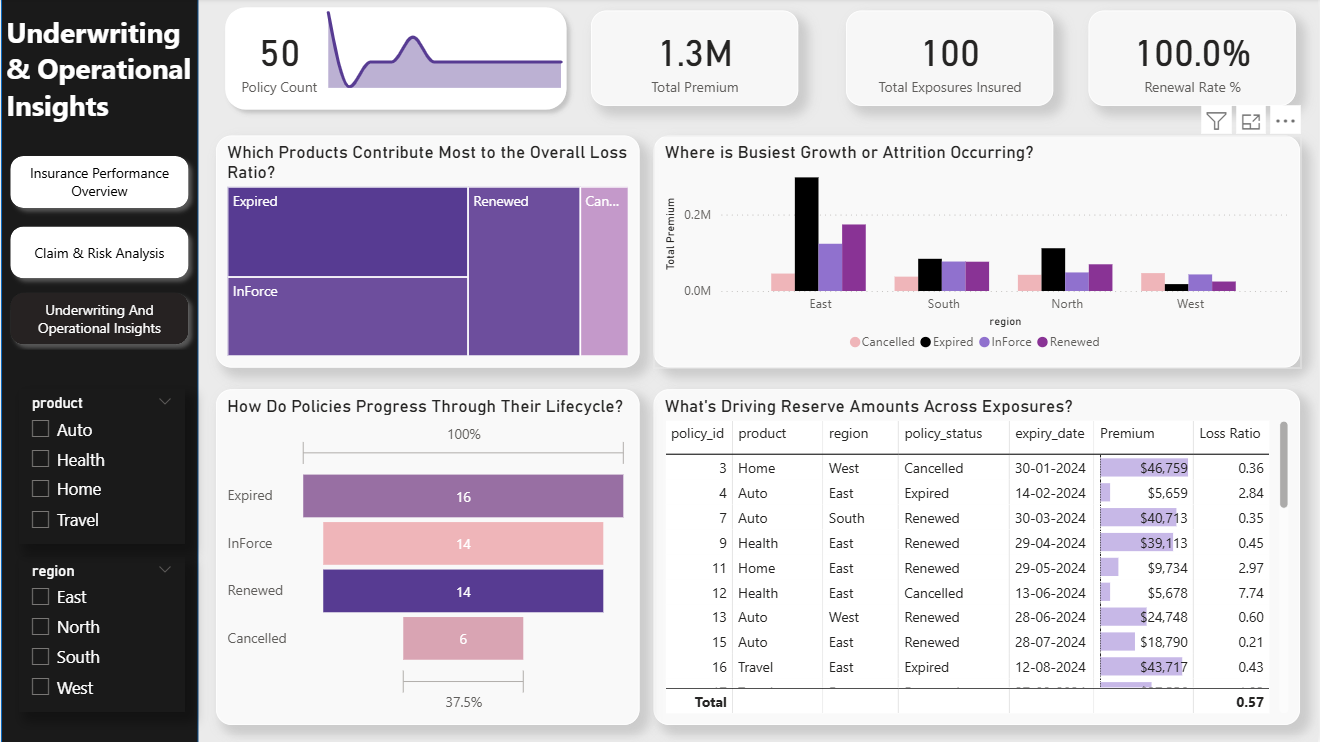

This screenshot's page, from the dashboard's own definition file:
{"tool":"powerbi","page":{"name":"Underwriting And Operational Insights","canvas":[1280,720],"ordinal":2},"visuals":[{"type":"shape","box":[9.6,0,190.7,720.4],"z":0},{"type":"card","fields":{"Values":["Measures_.Total Premium"]},"box":[579.1,12.3,200.3,91.9],"z":1000},{"type":"card","fields":{"Values":["Measures_.Total Exposures Insured"]},"box":[824.7,12.3,200.3,91.9],"z":2000},{"type":"card","fields":{"Values":["Measures_.Renewal Rate %"]},"box":[1059.4,12.3,200.3,91.9],"z":3000},{"type":"treemap","title":"Which Products Contribute Most to the Overall Loss Ratio?","fields":{"Group":["insurance policy.policy_status"],"Values":["Measures_.Policy Count"]},"box":[216.8,133.1,408.9,223.7],"z":4000},{"type":"textbox","box":[9.6,9.6,207.2,123.5],"z":5000},{"type":"pageNavigator","box":[9.6,144.1,190.7,197.6],"z":6000},{"type":"shape","box":[216.8,0,347.2,116.6],"z":10000},{"type":"card","fields":{"Values":["Measures_.Policy Count"]},"box":[220.9,0,115.3,116.6],"z":11000},{"type":"areaChart","title":"How Are Claims Distributed by Status?","fields":{"Y":["Measures_.Policy Count"],"Category":["Date.MonthName"]},"box":[312.9,0,251.1,91.9],"z":12000},{"type":"slicer","fields":{"Values":["insurance policy.product"]},"box":[26.1,377.4,160.5,149.6],"z":13000},{"type":"slicer","fields":{"Values":["insurance account.region"]},"box":[26.1,539.3,160.5,149.6],"z":14000},{"type":"clusteredColumnChart","title":"Where is Busiest Growth or Attrition Occurring?","fields":{"Category":["insurance account.region"],"Y":["Measures_.Total Premium"],"Series":["insurance policy.policy_status"]},"box":[639.5,133.1,624.4,223.7],"z":15000},{"type":"tableEx","title":"What''s Driving Reserve Amounts Across Exposures?","fields":{"Values":["insurance policy.policy_id","insurance policy.product","insurance account.region","insurance policy.policy_status","insurance policy.expiry_date","insurance policy.written_premium","Measures_.Loss Ratio %"]},"box":[639.5,377.4,624.4,323.8],"z":15001},{"type":"funnel","title":"How Do Policies Progress Through Their Lifecycle?","fields":{"Category":["insurance policy.policy_status"],"Y":["Measures_.Policy Count"]},"box":[216.8,377.4,408.9,323.8],"z":15002}]}

Visuals, with their boxes in screenshot pixels (x1, y1, x2, y2), scaled from the page's 1280x720 canvas onto the 1320x742 screenshot:
shape: x1=10, y1=0, x2=207, y2=741
card - Measures_.Total Premium: x1=597, y1=13, x2=804, y2=107
card - Measures_.Total Exposures Insured: x1=850, y1=13, x2=1057, y2=107
card - Measures_.Renewal Rate %: x1=1093, y1=13, x2=1299, y2=107
"Which Products Contribute Most to the Overall Loss Ratio?" treemap: x1=224, y1=137, x2=645, y2=368
textbox: x1=10, y1=10, x2=224, y2=137
pageNavigator: x1=10, y1=149, x2=207, y2=352
shape: x1=224, y1=0, x2=582, y2=120
card - Measures_.Policy Count: x1=228, y1=0, x2=347, y2=120
"How Are Claims Distributed by Status?" areaChart: x1=323, y1=0, x2=582, y2=95
slicer - insurance policy.product: x1=27, y1=389, x2=192, y2=543
slicer - insurance account.region: x1=27, y1=556, x2=192, y2=710
"Where is Busiest Growth or Attrition Occurring?" clusteredColumnChart: x1=659, y1=137, x2=1303, y2=368
"What''s Driving Reserve Amounts Across Exposures?" tableEx: x1=659, y1=389, x2=1303, y2=723
"How Do Policies Progress Through Their Lifecycle?" funnel: x1=224, y1=389, x2=645, y2=723
